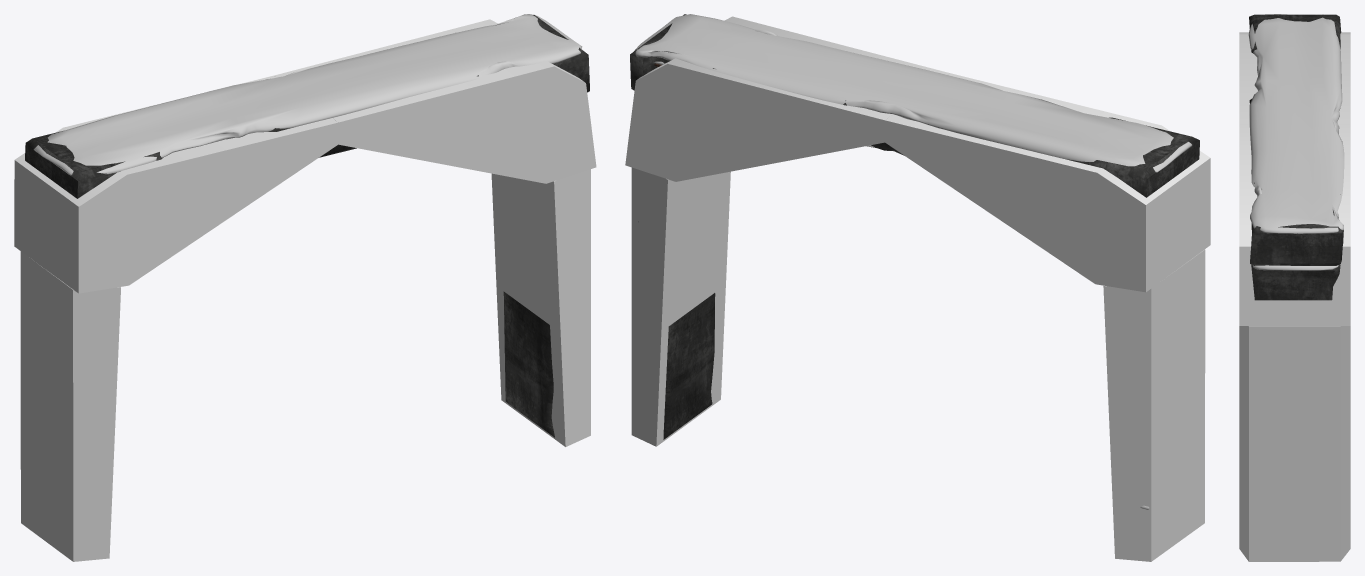
Rendered from Arch_type01.fbx.
The picture shows the model from 3 angles, left to right: view 1: azimuth 30°, elevation 25°; view 2: azimuth 150°, elevation 25°; view 3: azimuth 270°, elevation 25°; orthographic projection. The views are drawn at different scales.
Parts seen in each view (by area): view 1: Arch_type01_col, Snow, Arch_type01; view 2: Arch_type01_col, Snow, Arch_type01; view 3: Arch_type01_col, Snow, Arch_type01.
Boxes of the visible parts, <box> form: Arch_type01_col: <box>14,19,596,561</box>; Snow: <box>34,14,582,175</box>; Arch_type01: <box>25,15,589,437</box>; Arch_type01_col: <box>625,16,1210,561</box>; Snow: <box>634,14,1191,509</box>; Arch_type01: <box>630,14,1199,439</box>; Arch_type01_col: <box>1239,32,1350,561</box>; Snow: <box>1248,14,1344,270</box>; Arch_type01: <box>1249,14,1343,300</box>.
Size of the model in its own units: 273 by 195 by 58.44.
